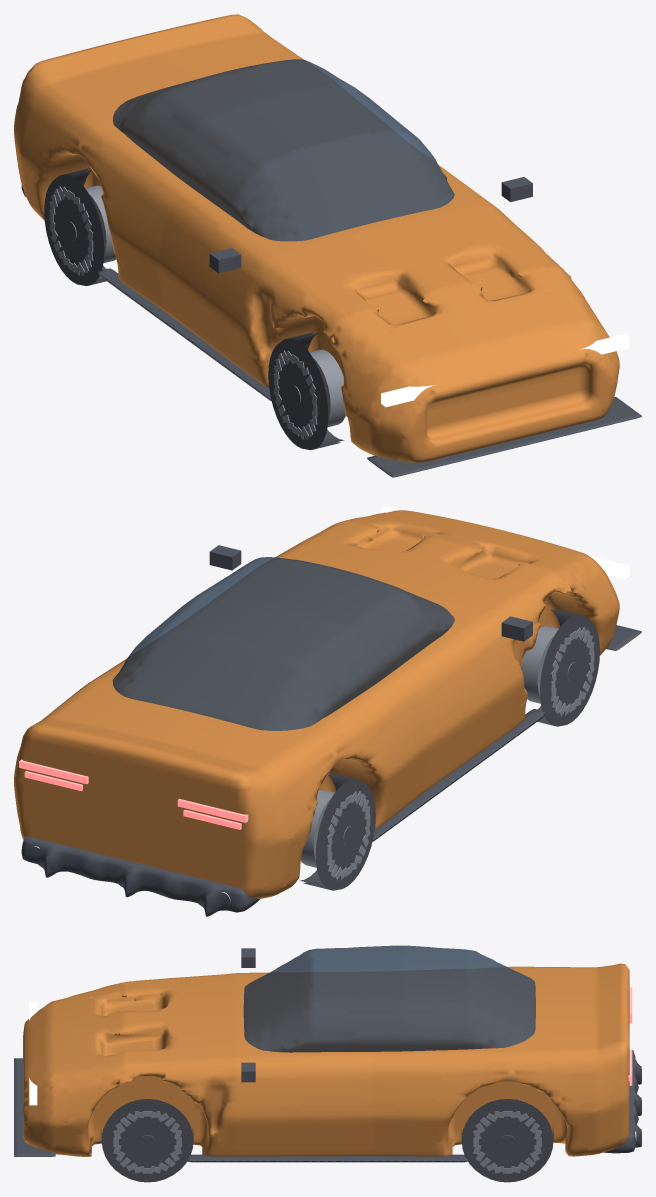
File: kestrel.glb
The picture shows the model from 3 angles, top to bottom: view 1: azimuth 30°, elevation 25°; view 2: azimuth 150°, elevation 25°; view 3: azimuth 270°, elevation 25°; orthographic projection. The views are drawn at different scales.
Parts seen in each view (by area): view 1: Bodywork, CanopyGlass, TireRubber, CarbonAero (×2), ForgedRim, HeadlightLED; view 2: Bodywork, CanopyGlass, CarbonAero (×2), TireRubber, ForgedRim, TaillightLED; view 3: Bodywork, CanopyGlass, TireRubber, CarbonAero (×2), ForgedRim.
Boxes of the visible parts, x1,y1,x2,y2 form: Bodywork: (14,14,619,462); CanopyGlass: (112,59,454,241); TireRubber: (44,168,344,450); CarbonAero (×2): (21,177,641,477); ForgedRim: (49,185,345,439); HeadlightLED: (381,334,629,407); Bodywork: (14,510,619,899); CanopyGlass: (112,557,454,730); CarbonAero (×2): (21,545,641,916); TireRubber: (300,608,599,890); ForgedRim: (301,626,594,880); TaillightLED: (19,759,248,829); Bodywork: (23,963,629,1156); CanopyGlass: (243,945,535,1052); TireRubber: (101,1099,553,1182); CarbonAero (×2): (14,948,641,1162); ForgedRim: (113,1111,541,1173).
Size of the model in its own units: 2.22 by 1.36 by 4.78.
